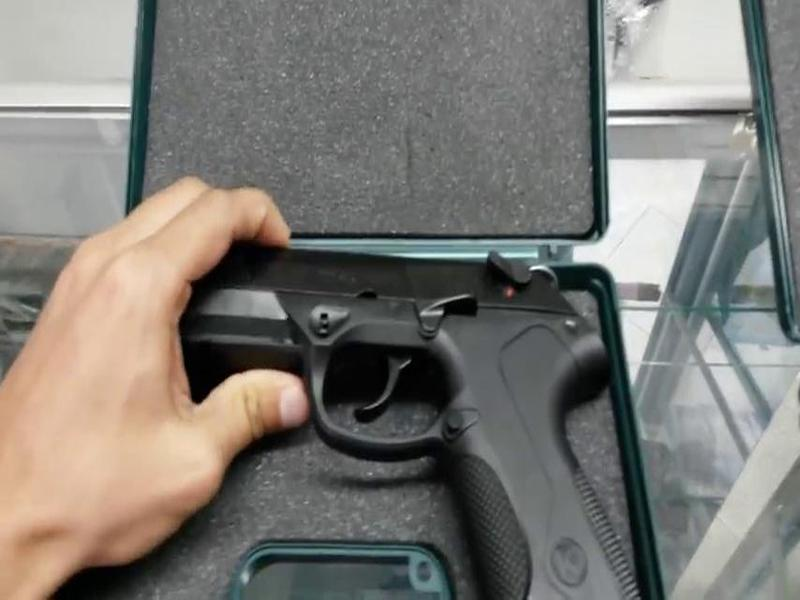Pistola: (178, 218, 640, 600)
